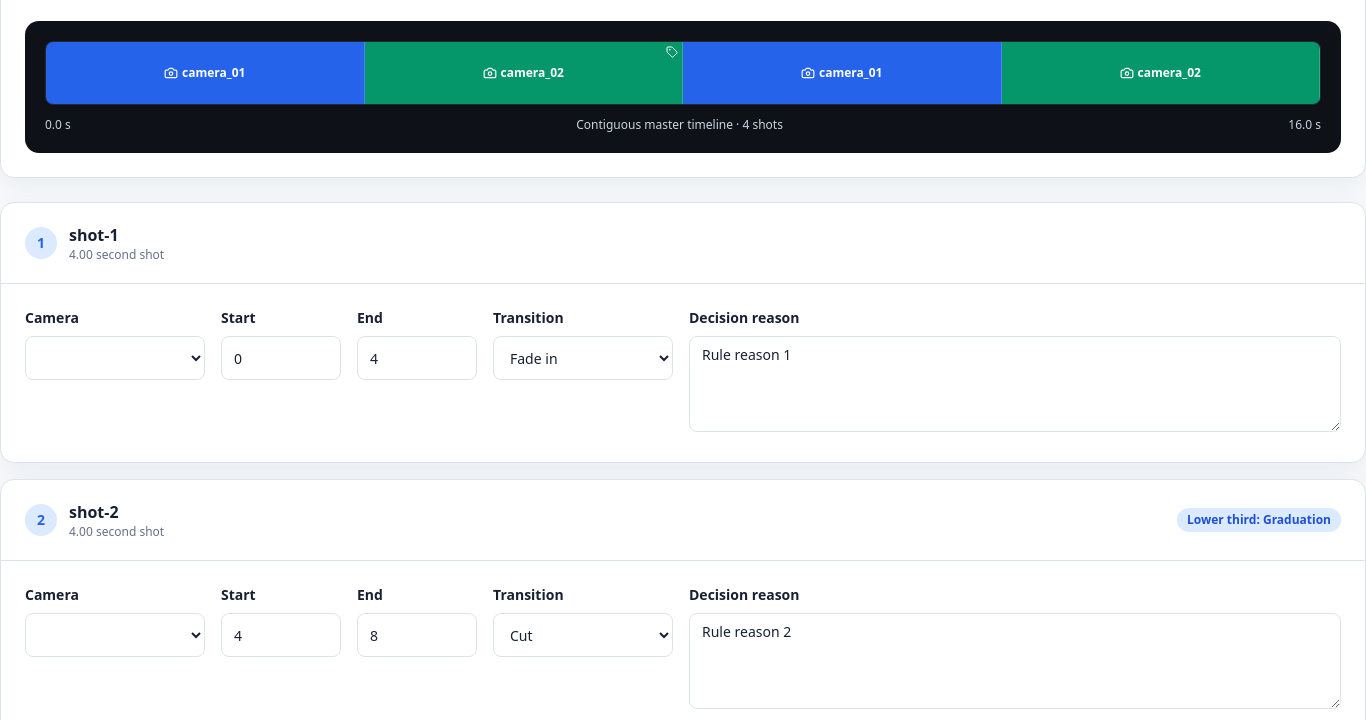
Test: renders an explainable timeline and revalidates local edits
(page scrolled)
Clear the 1st text box labelled "Decision reason" at (1015, 384), box [689,336,1341,432]
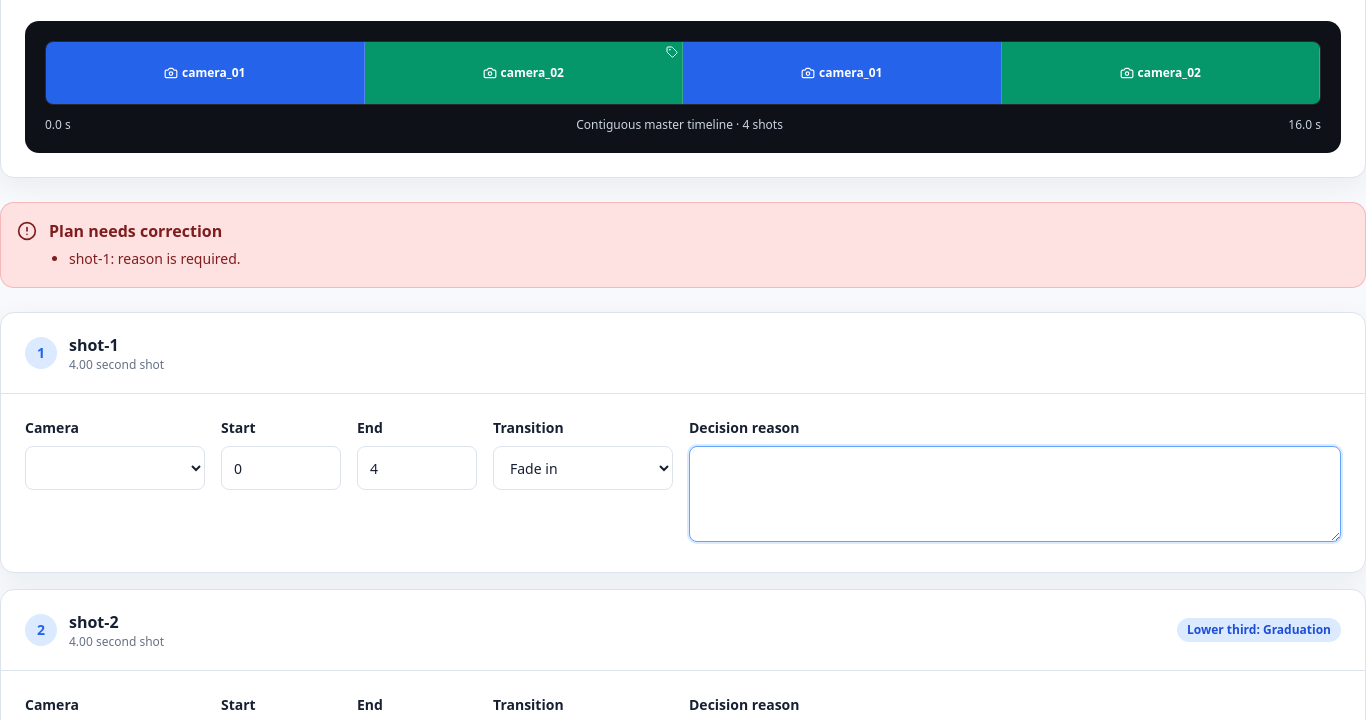
Result: the list item "shot-1: reason is required." is shown at [69,247,240,271]
Replace the text in the 1st number field labelled "Start" with "-1" at (281, 468), box [221,446,341,490]
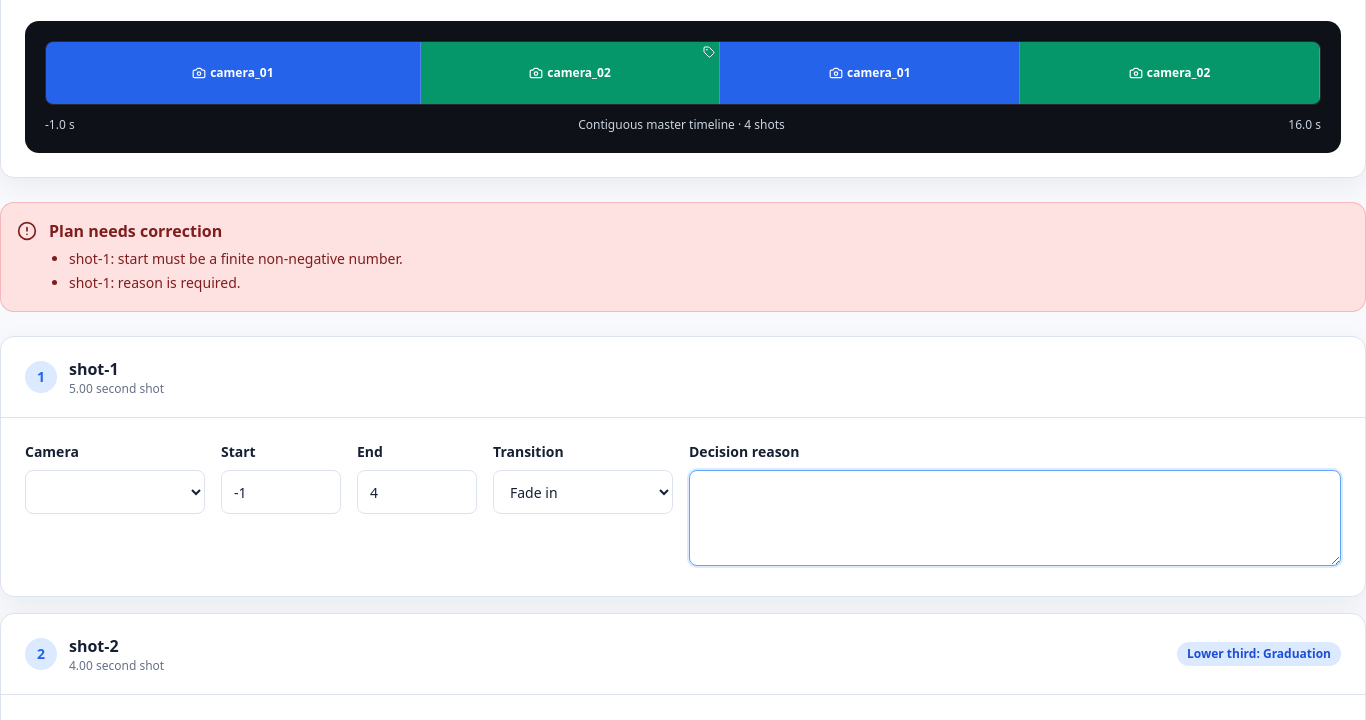
Result: the list item "shot-1: start must be a finite non-negative number." is shown at [69,247,403,271]
